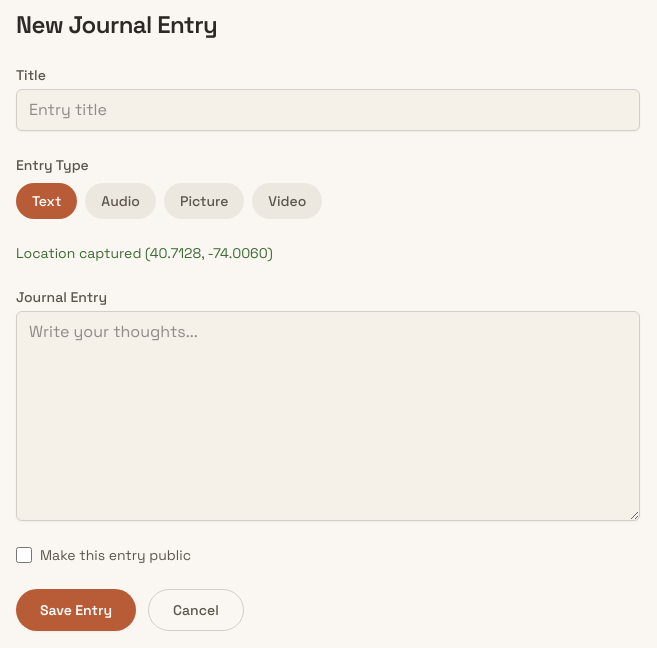
it: NewEntryPage › shows upload/camera toggle for picture/video
Click the button "Picture": (204, 201) [164,183,244,219]
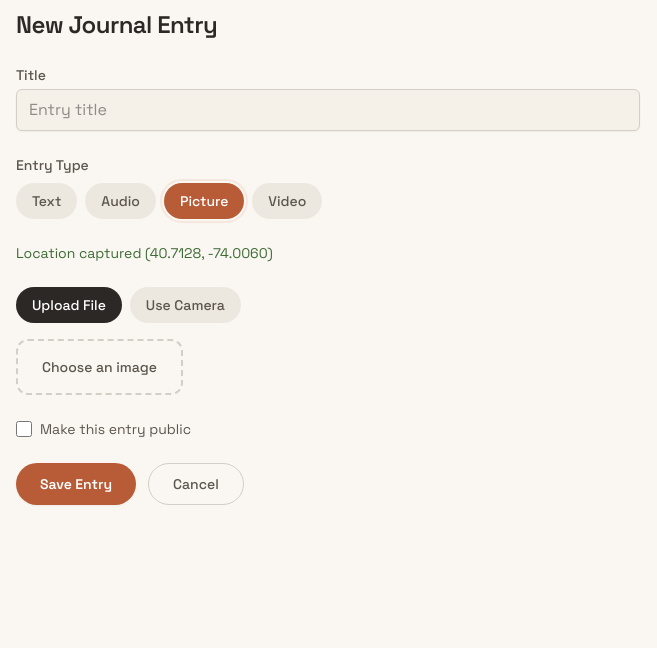
Result: the button "Upload File" is shown at [16,287,122,323]
Result: the button "Use Camera" is shown at [130,287,241,323]
